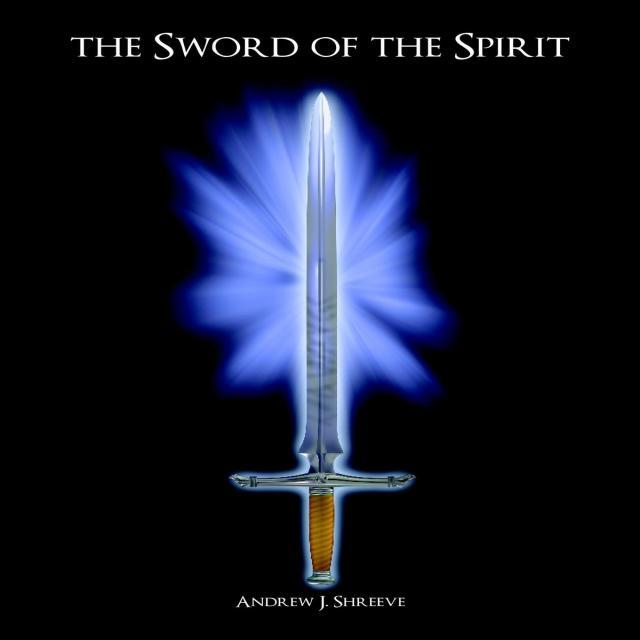sword: (198, 85, 442, 593)
